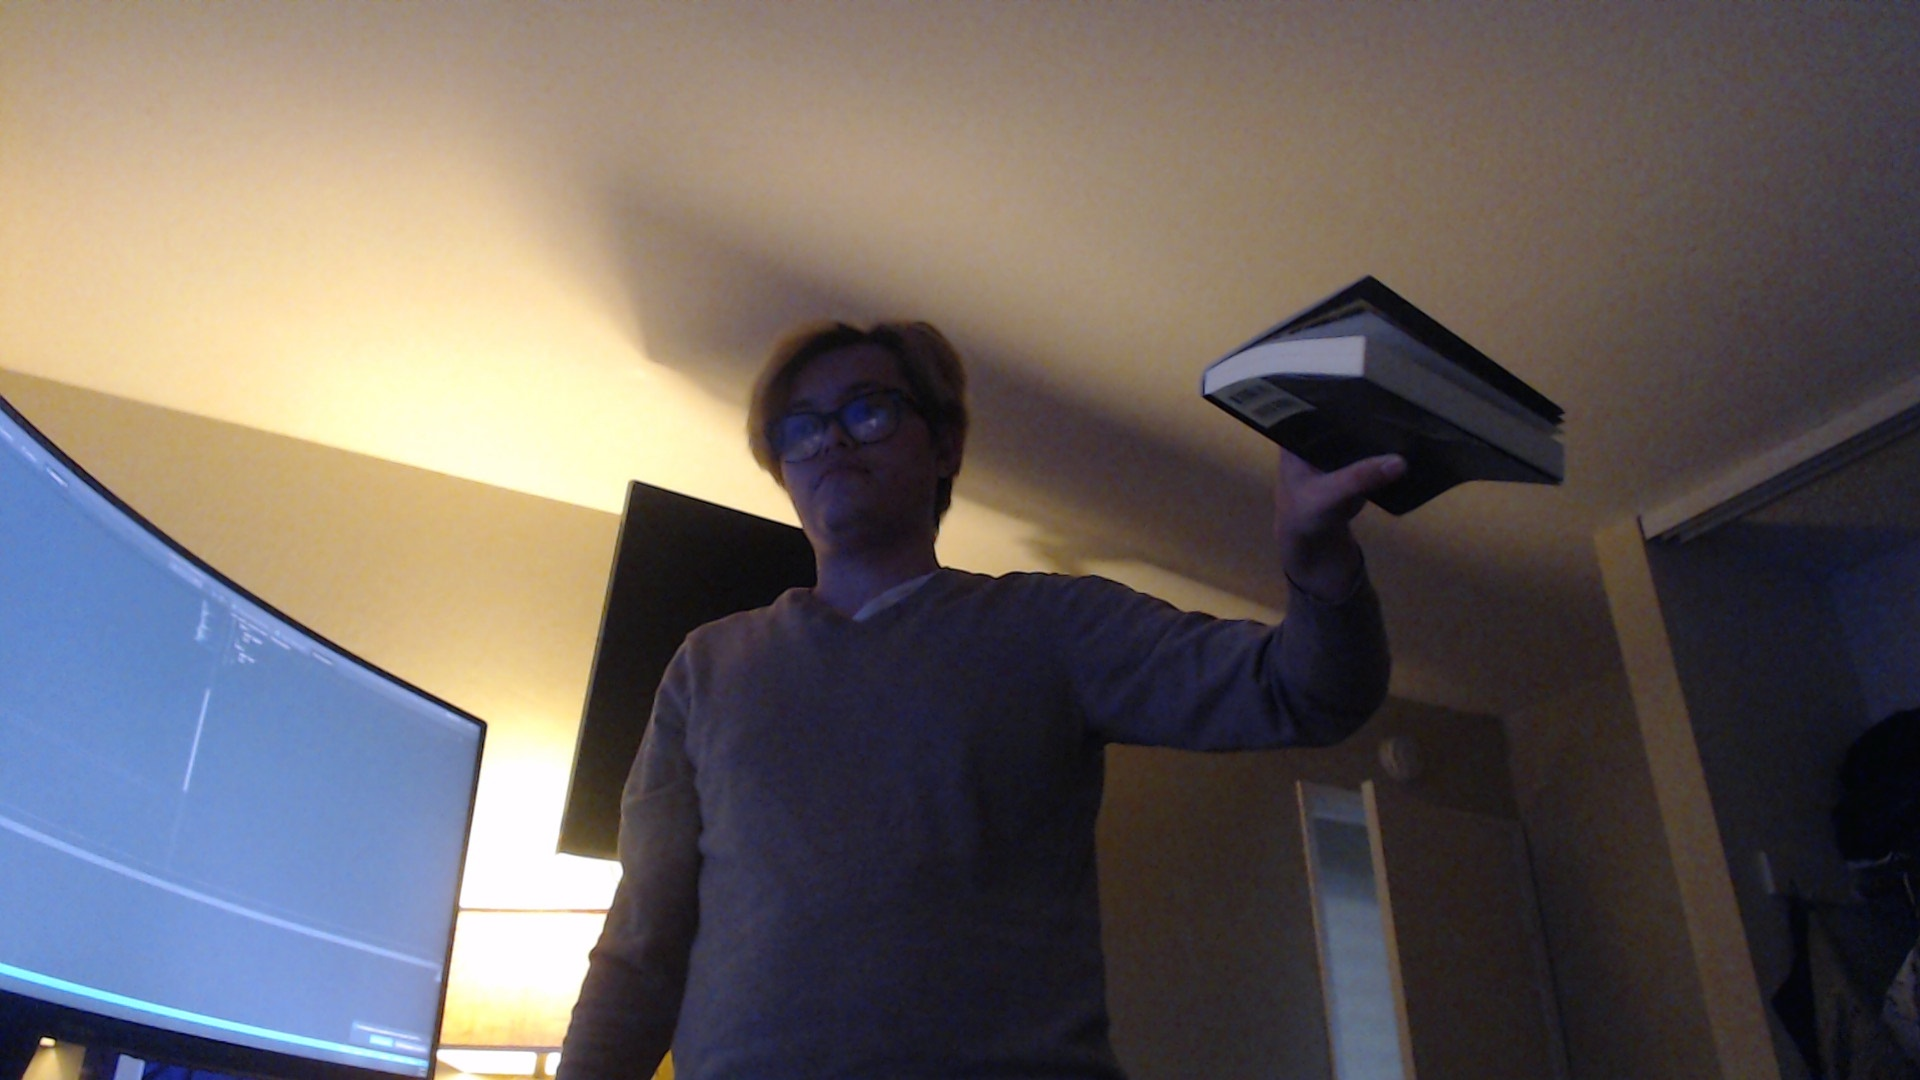book: (1200, 276, 1567, 520)
